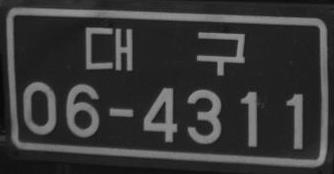0: (21, 80, 57, 135)
1: (233, 89, 270, 147), (278, 92, 315, 149)
3: (186, 89, 222, 145)
4: (143, 86, 177, 142)
6: (65, 82, 100, 138)
대구_D: (84, 25, 246, 76)
